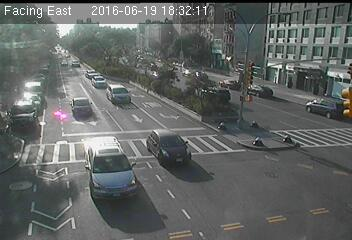neg: (284, 73, 296, 89), (313, 82, 323, 95)
